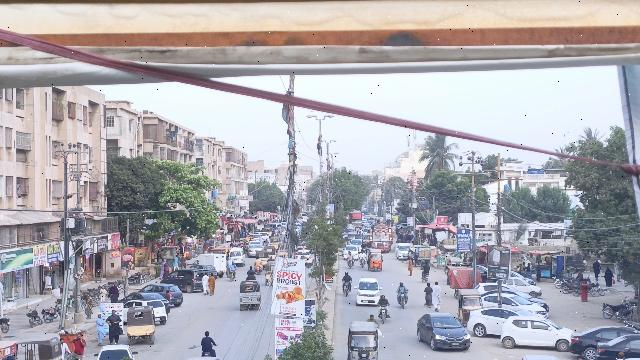Bike: (376, 303, 390, 323), (396, 289, 409, 309), (340, 280, 353, 296)
Car: (496, 314, 576, 349), (414, 310, 471, 354), (567, 323, 630, 360), (466, 305, 528, 338), (353, 278, 382, 307)
Person: (106, 310, 122, 343), (199, 329, 217, 354), (93, 310, 105, 343), (430, 280, 442, 311), (199, 270, 211, 296), (421, 279, 432, 307), (207, 272, 218, 297), (377, 293, 391, 309), (397, 280, 408, 296), (341, 271, 353, 283)
Rickshaw: (346, 320, 379, 360), (126, 305, 157, 345), (455, 288, 482, 323), (235, 280, 263, 312), (366, 248, 384, 273)
Truck: (199, 250, 227, 276)
